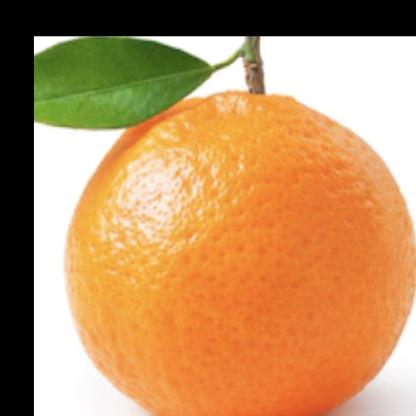rotten: (65, 79, 416, 416)
